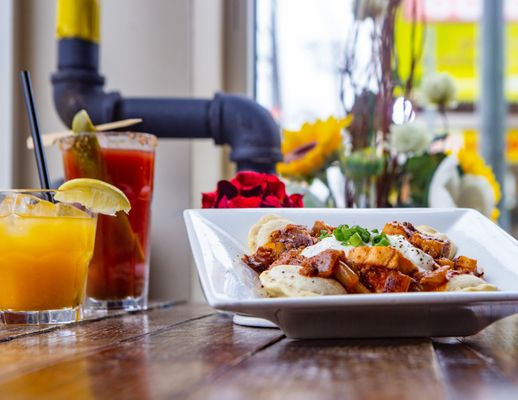pizza: (0, 188, 96, 334), (92, 129, 159, 310)
sushi: (183, 208, 515, 346)
